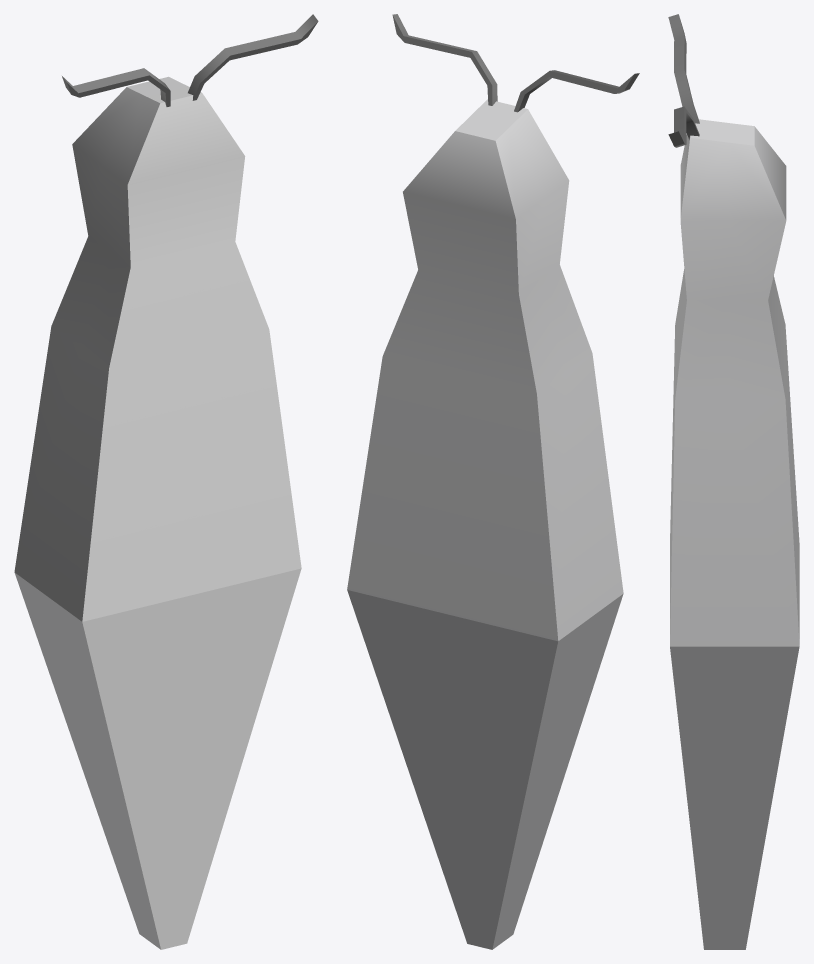
File: MOB_moth_Body.obj
3 views of the same model, side by side, from view 1: azimuth 30°, elevation 25°; view 2: azimuth 150°, elevation 25°; view 3: azimuth 270°, elevation 25° (orthographic). The views are drawn at different scales.
Visible parts, largest first — view 1: MOB_moth_Body2:Body, MOB_moth_Body3:Bodysyokkaku_R, MOB_moth_Body3:Bodysyokkaku_L; view 2: MOB_moth_Body2:Body, MOB_moth_Body3:Bodysyokkaku_R, MOB_moth_Body3:Bodysyokkaku_L; view 3: MOB_moth_Body2:Body, MOB_moth_Body3:Bodysyokkaku_L, MOB_moth_Body3:Bodysyokkaku_R.
Part boxes in pixels (x1,y1,x2,y2): MOB_moth_Body2:Body: [14, 76, 301, 949]; MOB_moth_Body3:Bodysyokkaku_R: [188, 14, 318, 100]; MOB_moth_Body3:Bodysyokkaku_L: [62, 68, 170, 106]; MOB_moth_Body2:Body: [347, 99, 623, 949]; MOB_moth_Body3:Bodysyokkaku_R: [392, 14, 497, 105]; MOB_moth_Body3:Bodysyokkaku_L: [514, 70, 639, 112]; MOB_moth_Body2:Body: [670, 119, 799, 949]; MOB_moth_Body3:Bodysyokkaku_L: [668, 14, 699, 123]; MOB_moth_Body3:Bodysyokkaku_R: [668, 106, 699, 147].
Size of the model in its own units: 0.1066 by 0.3691 by 0.0504.
Materials: 2 (1 with a texture image).
